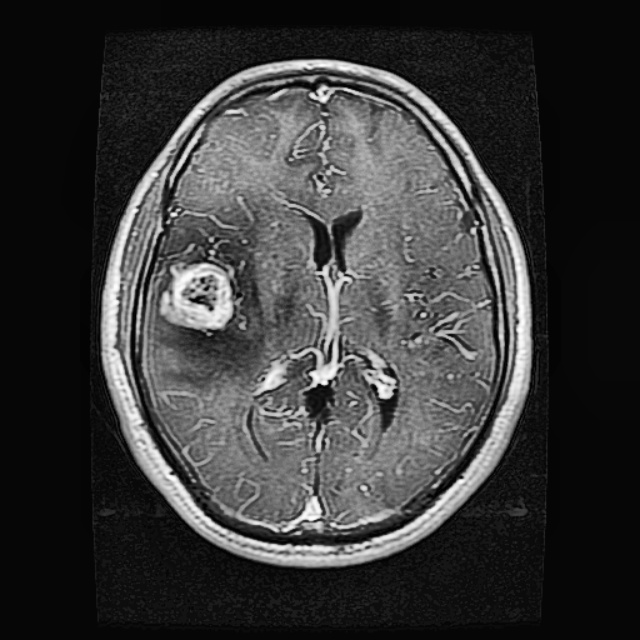Pituitary: (158, 255, 235, 334)
